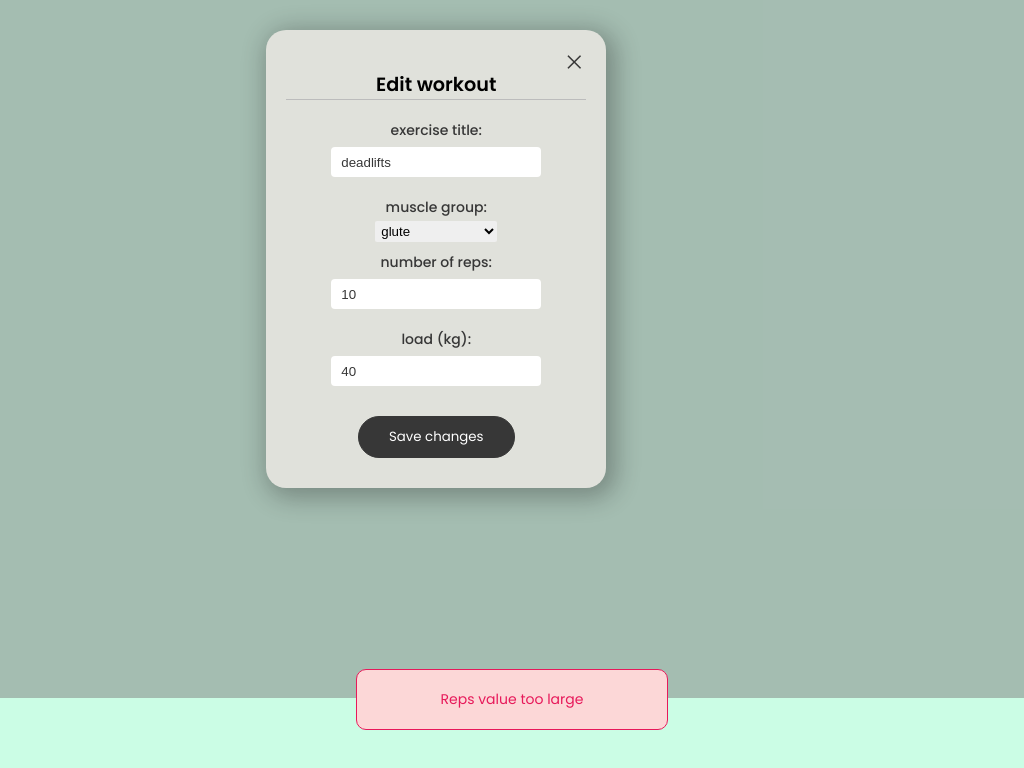
Test: <EditWorkout/> › should signal input error when user attempts to submit form with too large load number
Replace the text in the number field with test id "load" with "284738378" at (436, 371), box [331,356,541,386]
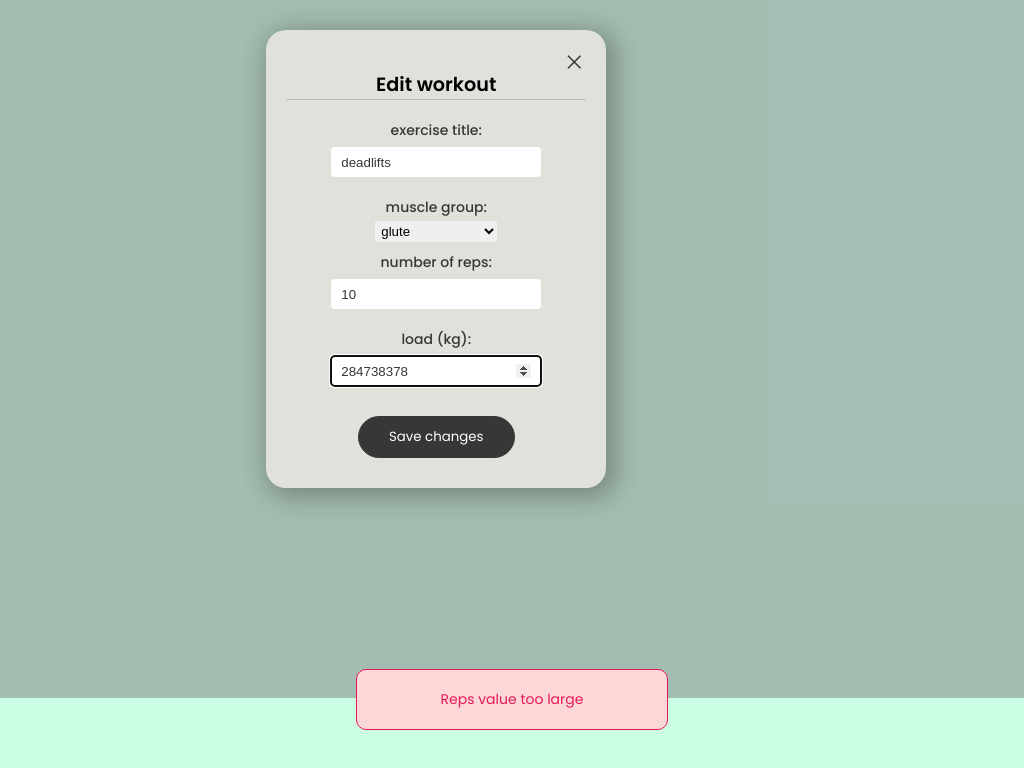
Click the button "Save changes" at (436, 437), box [358,416,514,458]
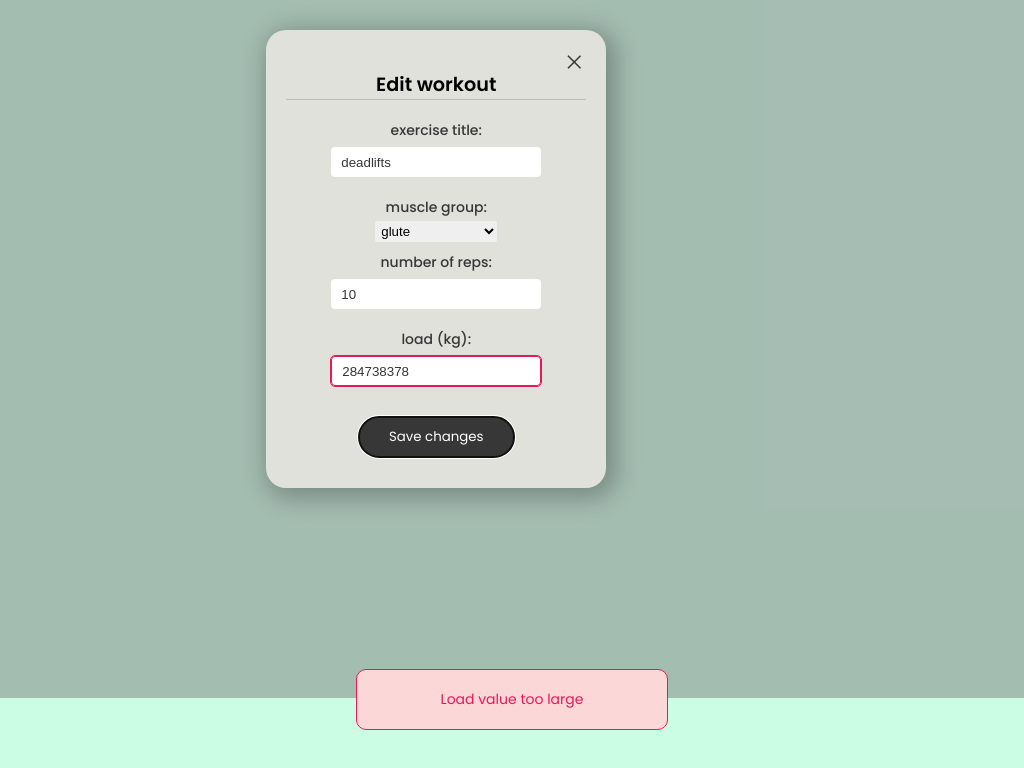
Expected: the message reads "Load value too large", [441,689,583,709]
